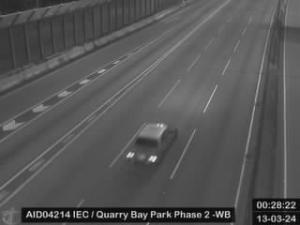vehicle: (124, 122, 178, 166)
